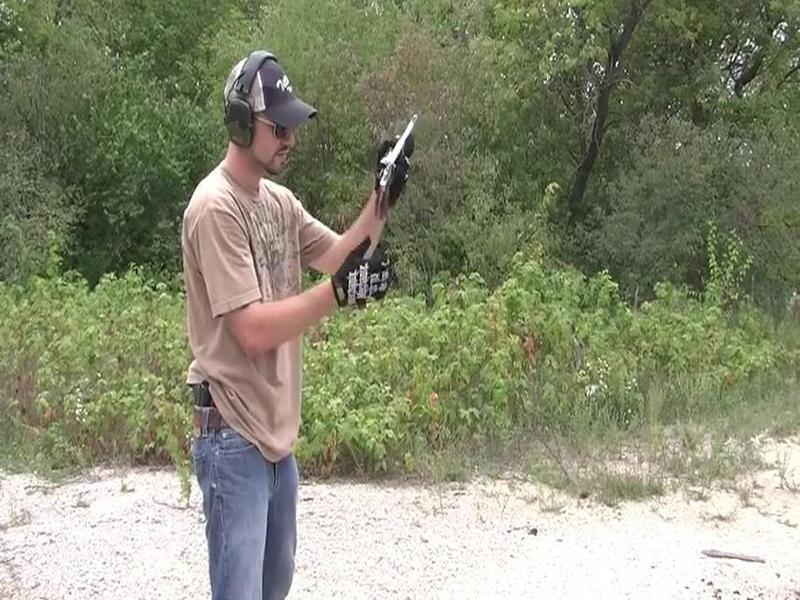Revolver: (368, 118, 431, 231)
